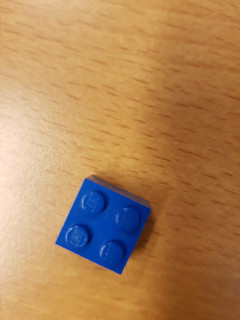2x2 blue: (53, 173, 153, 279)
